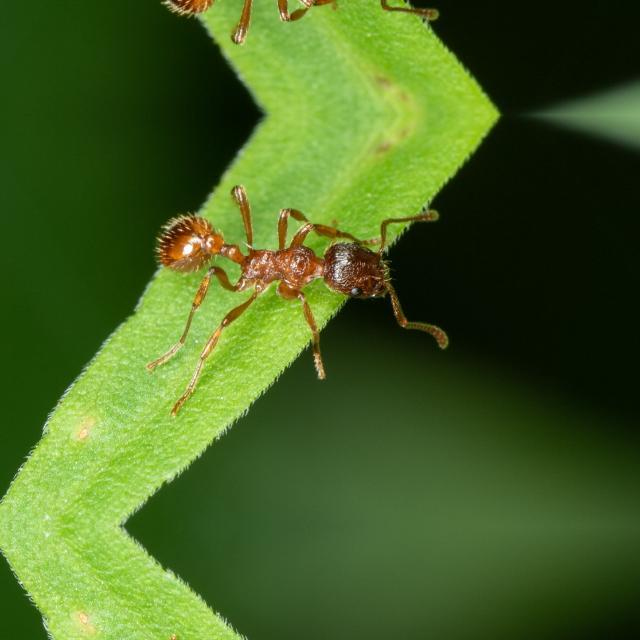Myrmica: (142, 195, 410, 337), (140, 0, 409, 32)
